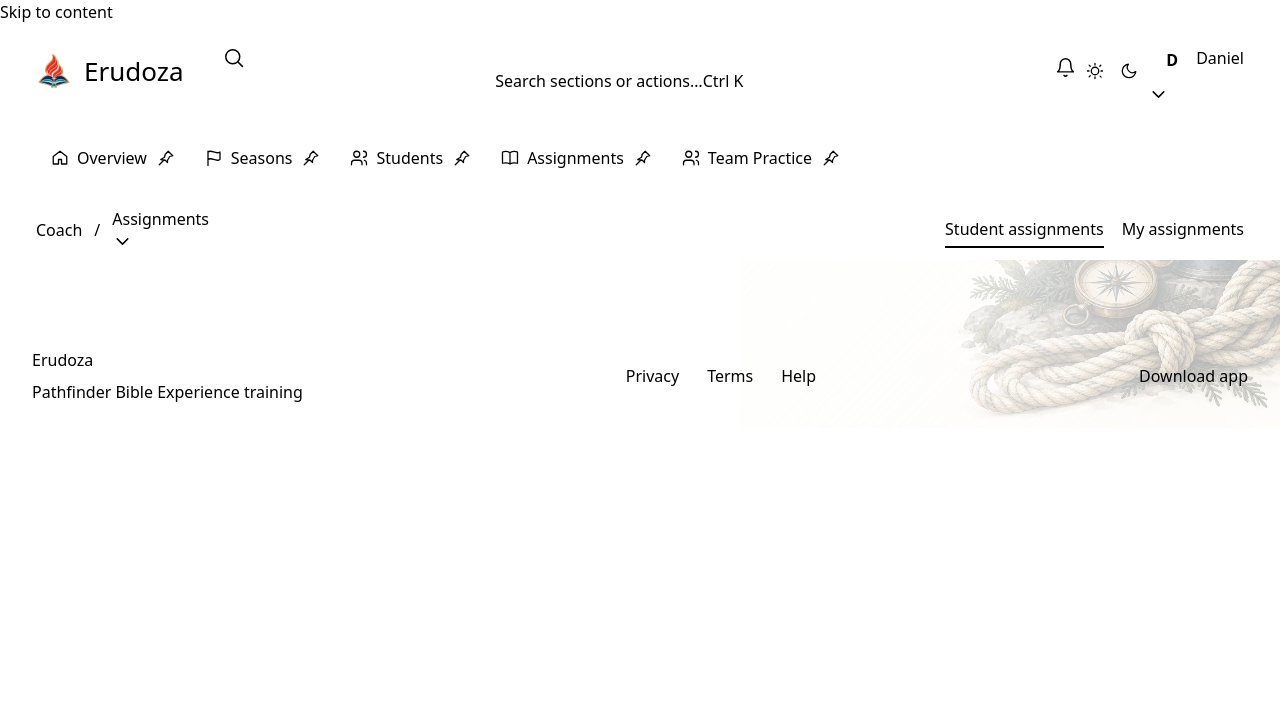
Test: shows five focused coach shortcuts by default with the rest grouped in Search
This screenshot has width=1280, height=720.
Expected: the links read "Overview", "Seasons", "Students", "Assignments", "Team Practice", in this order, [51,147,147,169]; [205,147,292,169]; [350,147,443,169]; [501,147,624,169]; [682,147,812,169]
Click the button "Search sections or actions…Ctrl K": (619, 70) [208,38,1031,103]
(page scrolled)
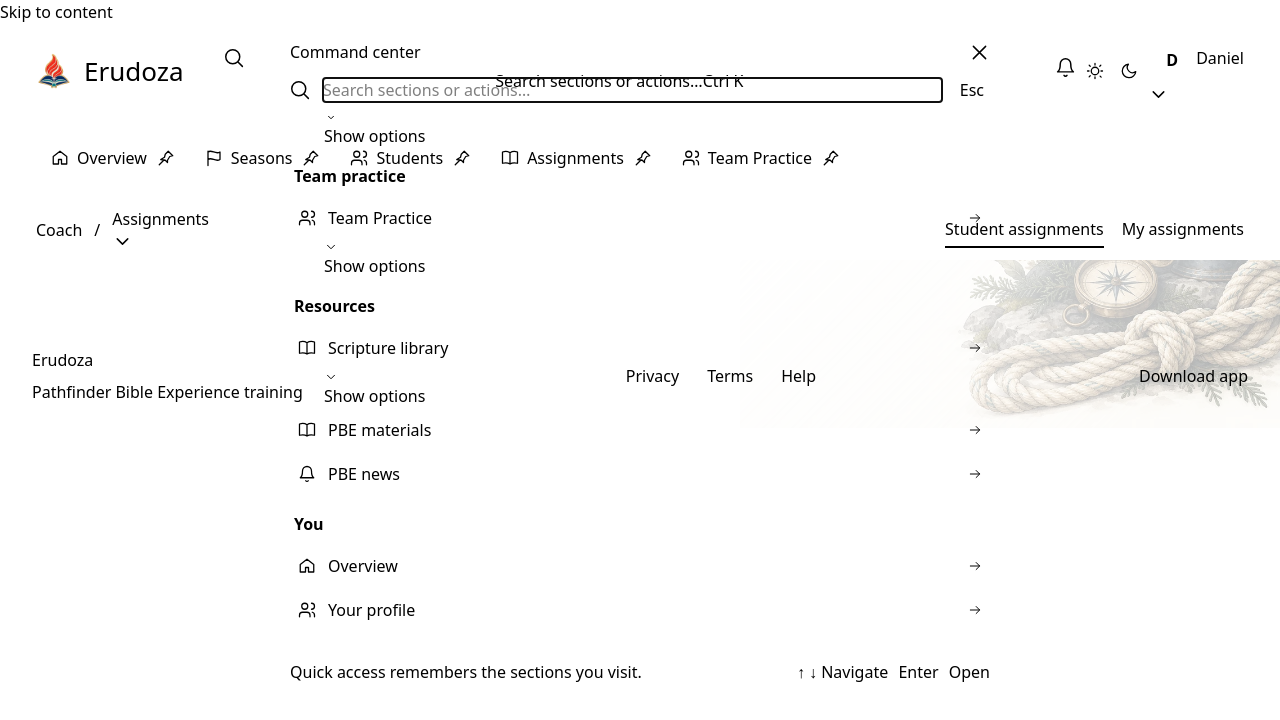
Result: the link "Scripture library" is shown at [298,337,982,359]
Result: the link "PBE materials" is shown at [298,419,982,441]
Result: the link "PBE news" is shown at [298,463,982,485]
